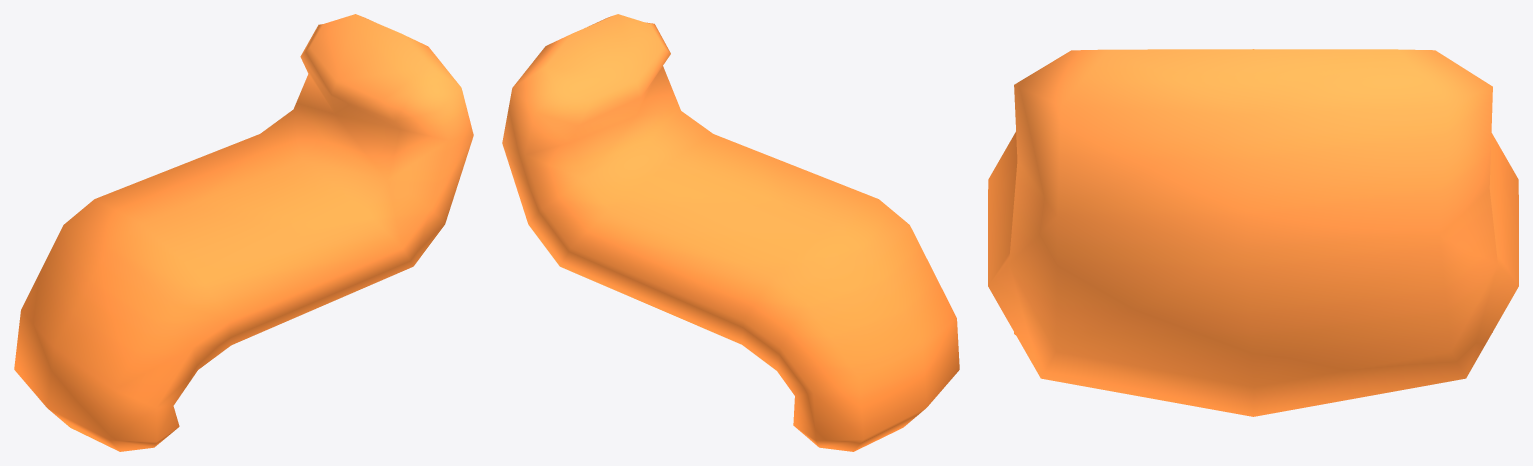
Rendered from bronze_guard_065.glb.
3 renders of one model, left to right at view 1: azimuth 30°, elevation 25°; view 2: azimuth 150°, elevation 25°; view 3: azimuth 270°, elevation 25°, orthographic. The views are drawn at different scales.
Visible parts, largest first — view 1: bronze_guard_065; view 2: bronze_guard_065; view 3: bronze_guard_065.
Boxes of the visible parts, bbox=[...] form: bronze_guard_065: bbox=[14, 14, 473, 451]; bronze_guard_065: bbox=[502, 14, 959, 451]; bronze_guard_065: bbox=[988, 49, 1518, 416].
Size of the model in its own units: 5.51 by 4.2 by 3.22.
Materials: 1 (1 with a texture image).
